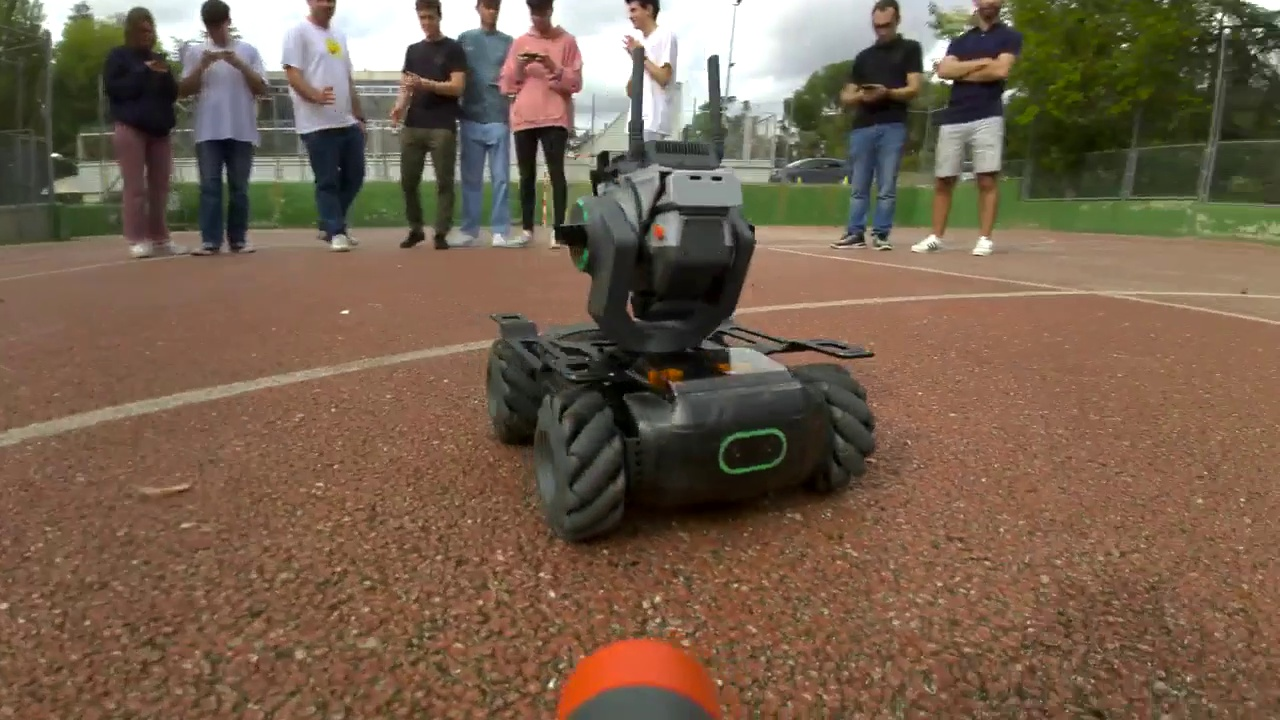robot: (484, 144, 874, 545)
